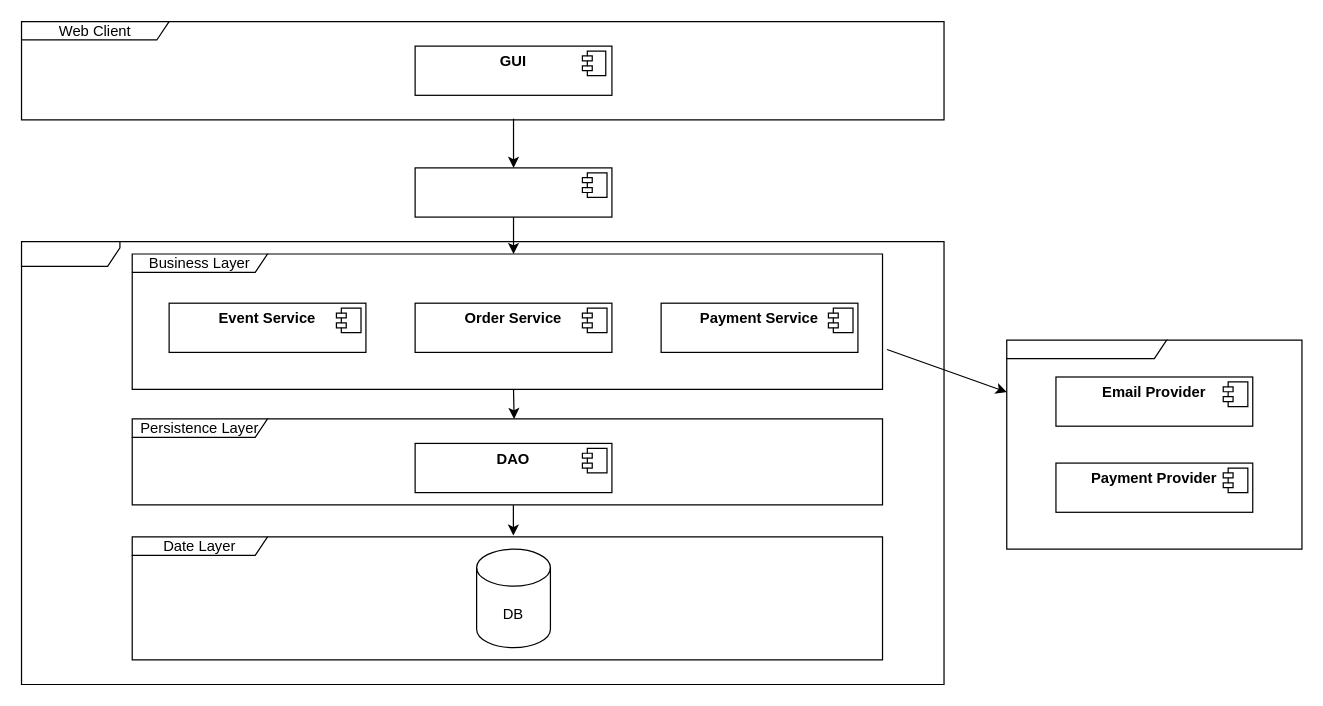
This 1323x706 diagram has some shape labels left out. Here are the shapes that lost their labels. From the top down, the centre of each, then its label:
At [513,192]: "API Gateway".
At [482,462]: "Backend".
At [1154,444]: "3d party System".
